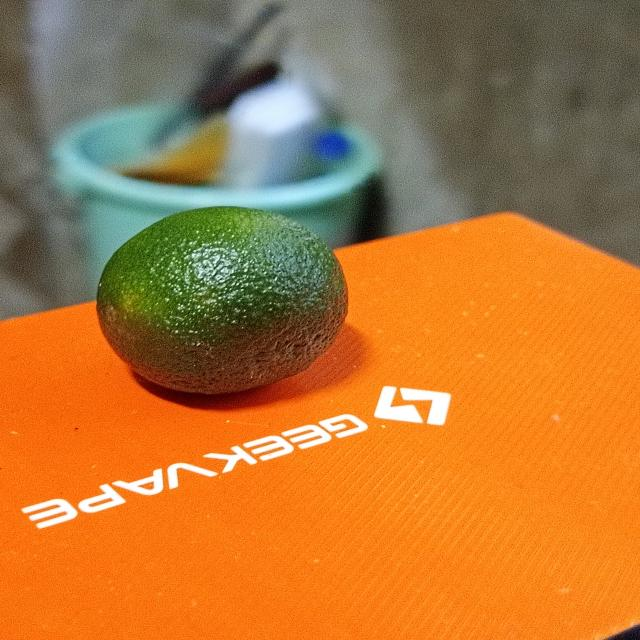heathy: (98, 202, 357, 399)
